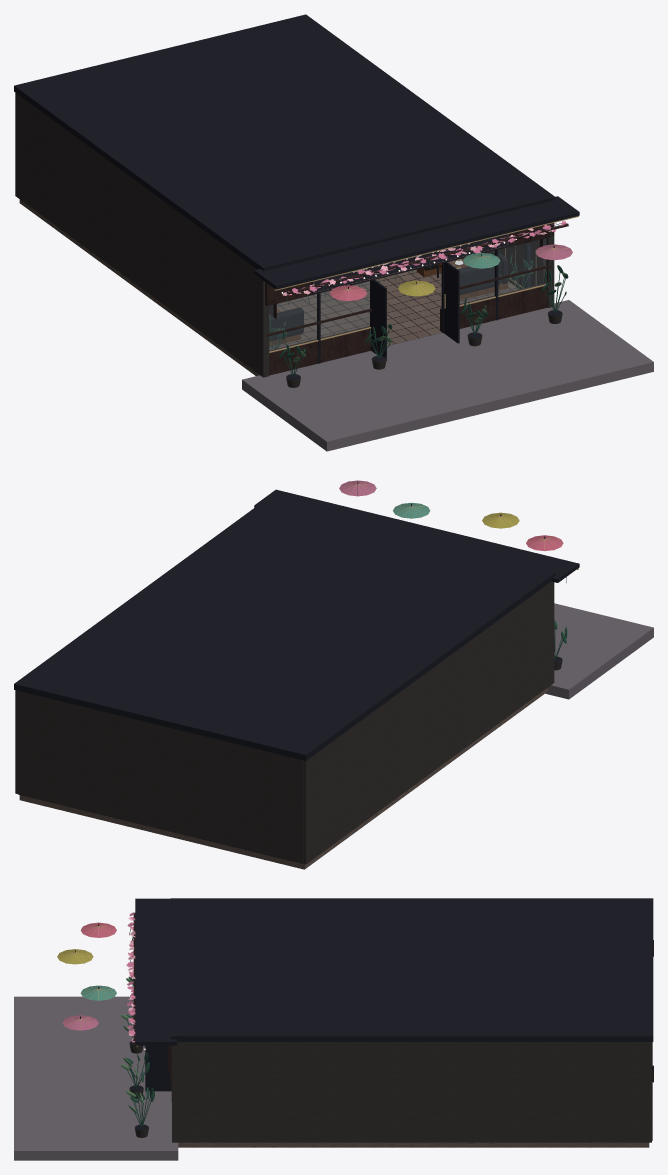
Rendered from magpie-bar.glb.
The picture shows the model from 3 angles, top to bottom: view 1: azimuth 30°, elevation 25°; view 2: azimuth 150°, elevation 25°; view 3: azimuth 270°, elevation 25°; orthographic projection. The views are drawn at different scales.
Visible parts, largest first — view 1: Roof · Blackened steel, Floor · Exterior paving, Walls · Charcoal plaster, Facade · Blackened steel, Floor · Ceramic floor tile, Facade · Facade glazing, Facade · Dark timber panels, Decor · Dark foliage, Seating · Black stitched leather, Facade · Illuminated facade lettering, Walls · Dark timber panels, Facade · Aged champagne brass (+3 smaller); view 2: Roof · Blackened steel, Walls · Charcoal plaster, Floor · Exterior paving, Facade · Blackened steel, Floor · Ceramic floor tile; view 3: Roof · Blackened steel, Walls · Charcoal plaster, Floor · Exterior paving, Facade · Blackened steel, Floor · Ceramic floor tile, Decor · Dark foliage, Decor · Blossom petals, Decor · Umbrella 4.2, Decor · Umbrella -4.2, Decor · Umbrella 1.5, Decor · Umbrella -1.8, Decor · Aged champagne brass.
Boxes of the visible parts, left/top/right/bottom form: Roof · Blackened steel: left=14, top=14, right=555, bottom=271; Floor · Exterior paving: left=242, top=300, right=653, bottom=451; Walls · Charcoal plaster: left=15, top=93, right=554, bottom=377; Facade · Blackened steel: left=254, top=196, right=579, bottom=363; Floor · Ceramic floor tile: left=19, top=199, right=518, bottom=375; Facade · Facade glazing: left=269, top=238, right=546, bottom=350; Facade · Dark timber panels: left=265, top=223, right=554, bottom=375; Decor · Dark foliage: left=269, top=231, right=568, bottom=376; Seating · Black stitched leather: left=269, top=251, right=507, bottom=341; Facade · Illuminated facade lettering: left=313, top=234, right=508, bottom=293; Walls · Dark timber panels: left=269, top=238, right=545, bottom=318; Facade · Aged champagne brass: left=269, top=216, right=578, bottom=352; Roof · Blackened steel: left=14, top=501, right=555, bottom=760; Walls · Charcoal plaster: left=15, top=581, right=554, bottom=864; Floor · Exterior paving: left=545, top=603, right=653, bottom=699; Facade · Blackened steel: left=254, top=489, right=579, bottom=582; Floor · Ceramic floor tile: left=19, top=688, right=547, bottom=869; Roof · Blackened steel: left=170, top=898, right=653, bottom=1041; Walls · Charcoal plaster: left=172, top=1042, right=652, bottom=1142; Floor · Exterior paving: left=14, top=996, right=178, bottom=1160; Facade · Blackened steel: left=135, top=898, right=176, bottom=1091; Floor · Ceramic floor tile: left=178, top=1142, right=649, bottom=1147; Decor · Dark foliage: left=125, top=926, right=154, bottom=1127; Decor · Blossom petals: left=126, top=912, right=135, bottom=1041; Decor · Umbrella 4.2: left=62, top=1015, right=98, bottom=1030; Decor · Umbrella -4.2: left=81, top=922, right=116, bottom=937; Decor · Umbrella 1.5: left=81, top=985, right=116, bottom=1000; Decor · Umbrella -1.8: left=57, top=949, right=93, bottom=964; Decor · Aged champagne brass: left=58, top=922, right=116, bottom=1030.
Size of the model in its own units: 14 by 4.9 by 24.52.
Materials: 36 (10 with a texture image).
